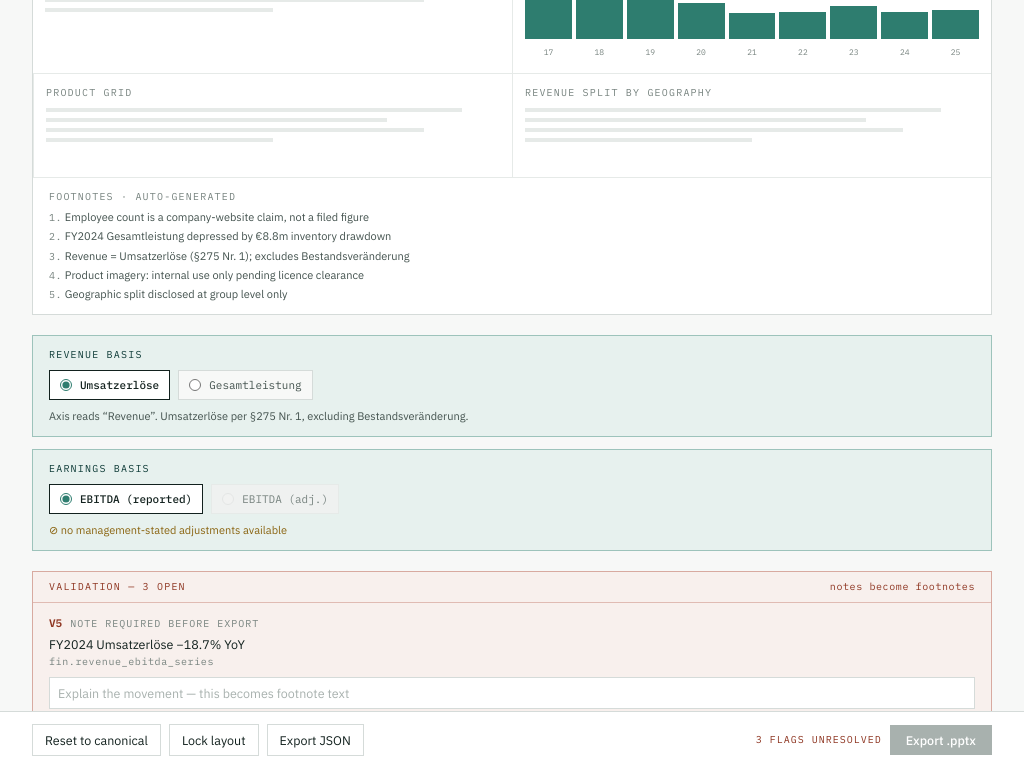
Test case: slot assignment safeguards › fails V1 when the revenue basis changes to Gesamtleistung
The width and height of the screenshot is (1024, 768).
(page scrolled)
Expected: the button "Export .pptx" is shown, [890, 725, 992, 755]
Click the radio button labelled "Gesamtleistung". click: (195, 385)
box: [189, 379, 201, 391]
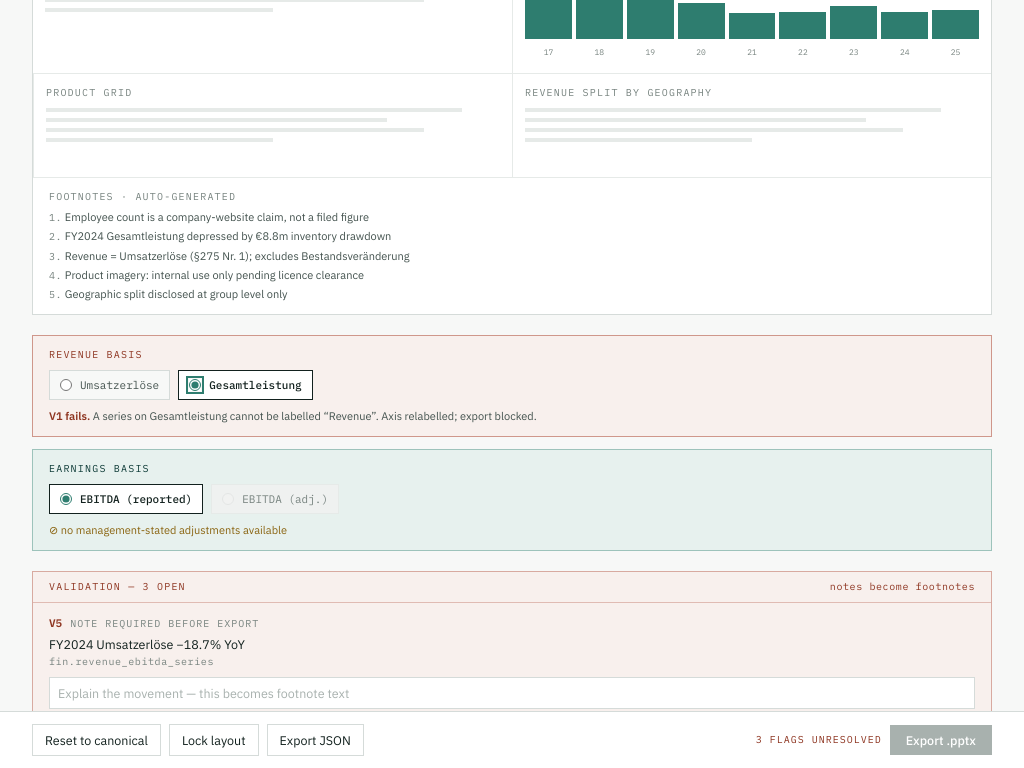
Expected: the button "Export .pptx" is disabled, [890, 725, 992, 755]
Expected: the text "Axis relabelled; export blocked" is shown, [227, 409, 537, 423]
Expected: the text "V1 fails." is shown, [49, 409, 90, 423]
